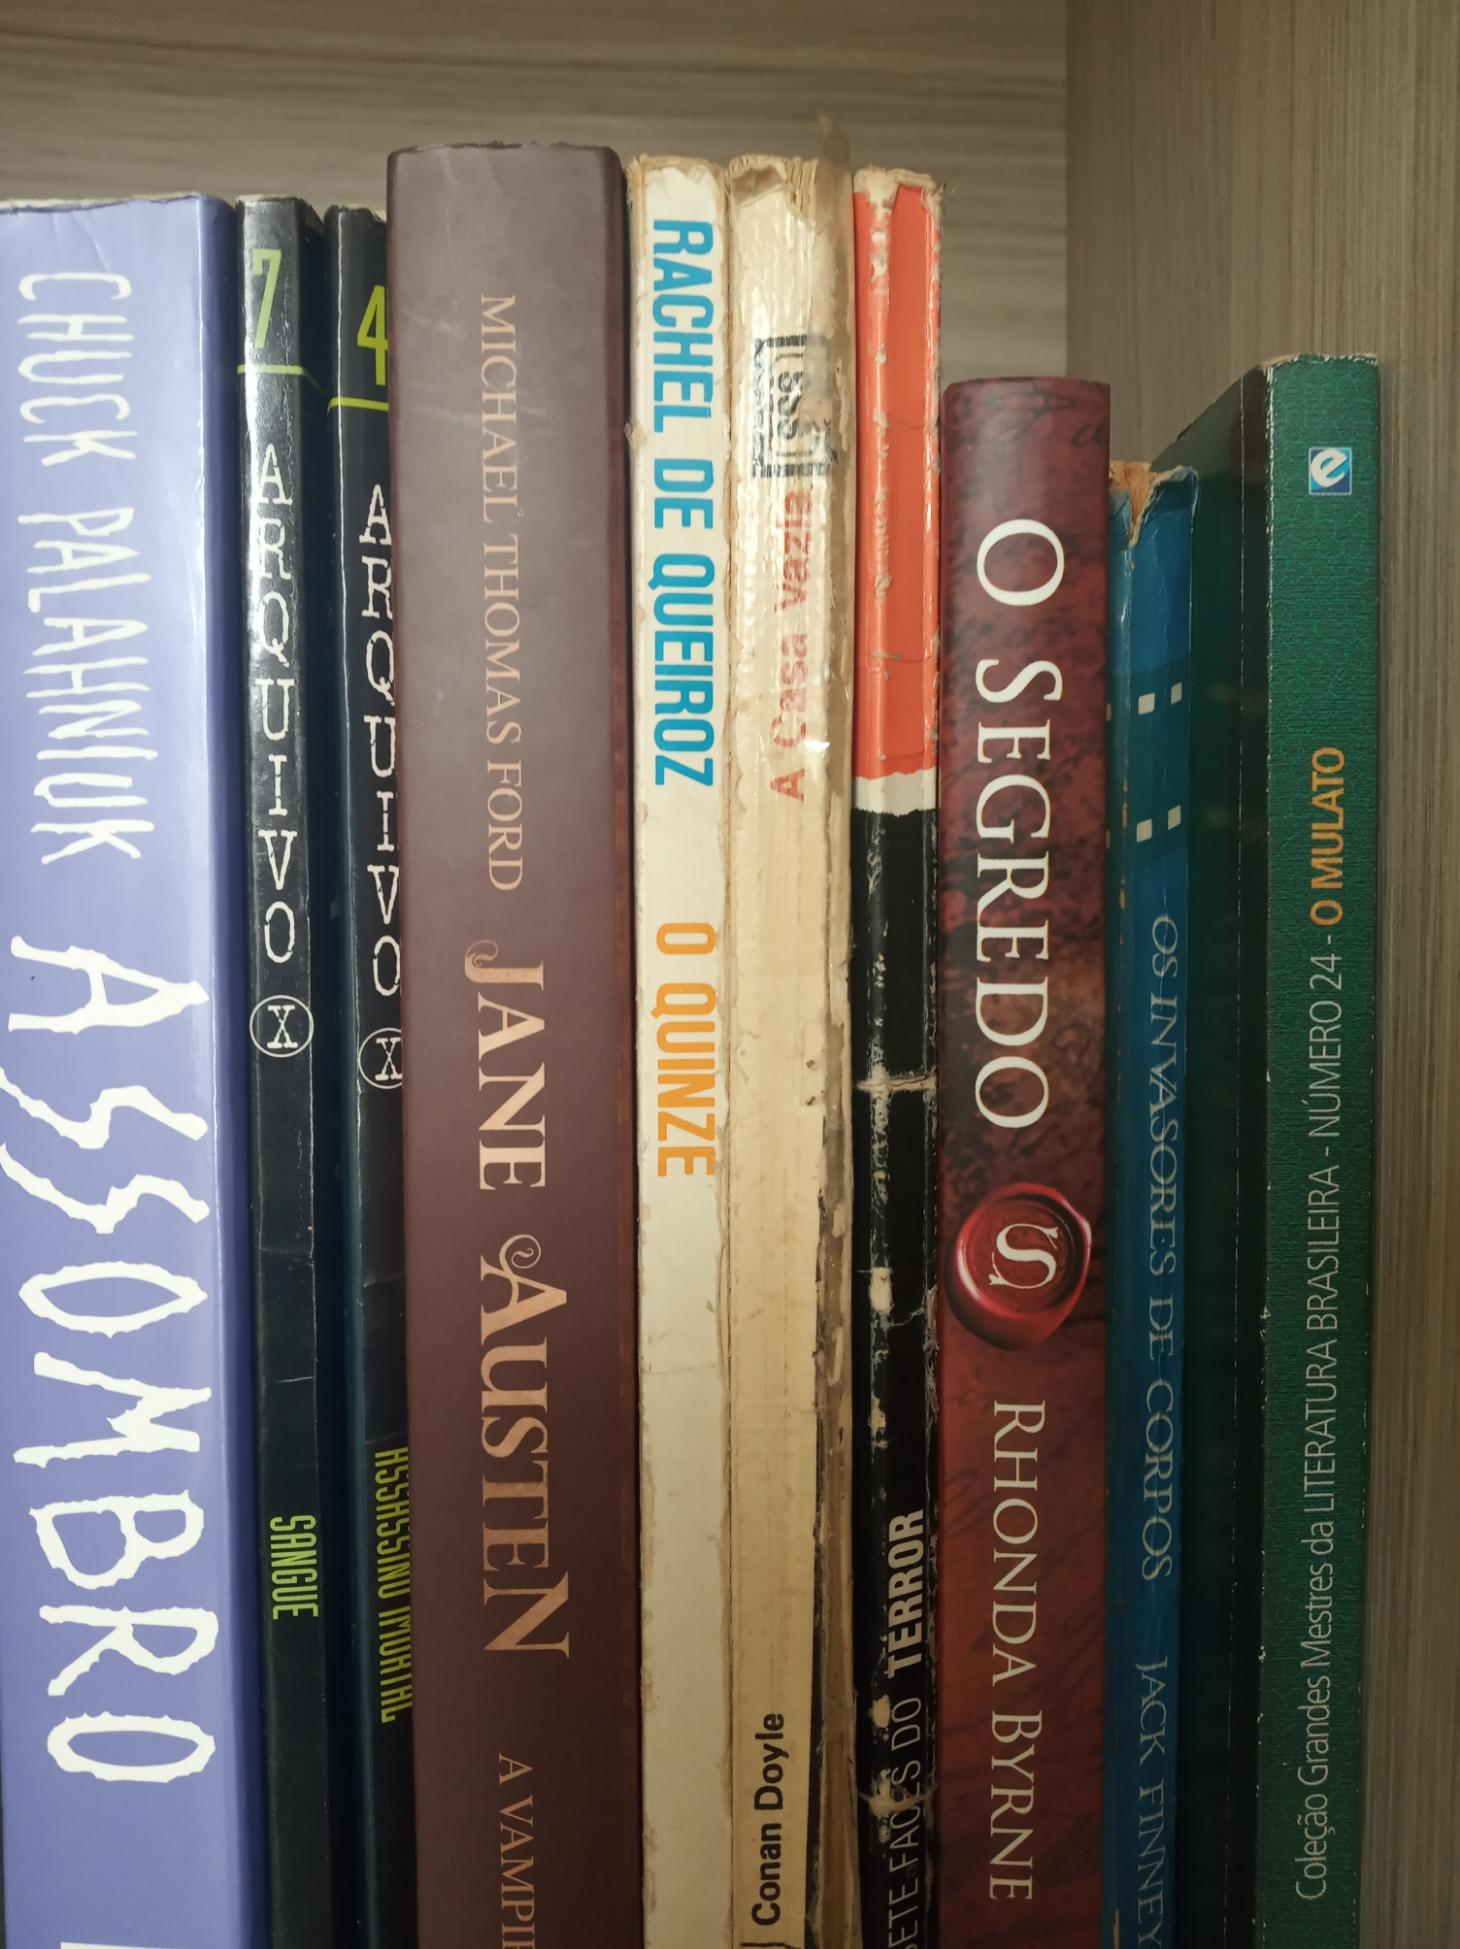book: (11, 213, 195, 1949), (440, 166, 603, 1931), (949, 376, 1101, 1938), (241, 205, 322, 1947), (640, 167, 718, 1941), (735, 161, 811, 1935), (1290, 374, 1370, 1947), (1146, 481, 1222, 1934), (866, 186, 929, 1931), (353, 201, 414, 1941)
